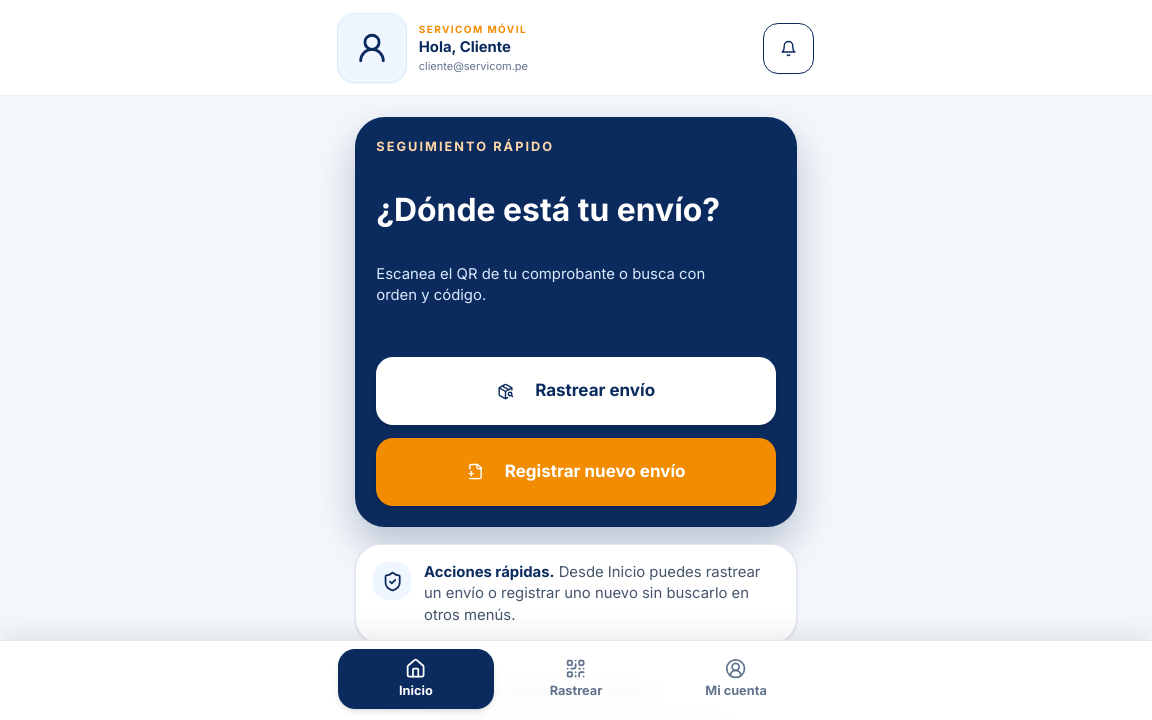
it: MobileAppPage › mantiene al Cliente dentro de las tres funciones permitidas y no expone administración
Click the button "Mi cuenta" at x=736, y=679, box [658,650,814,709]
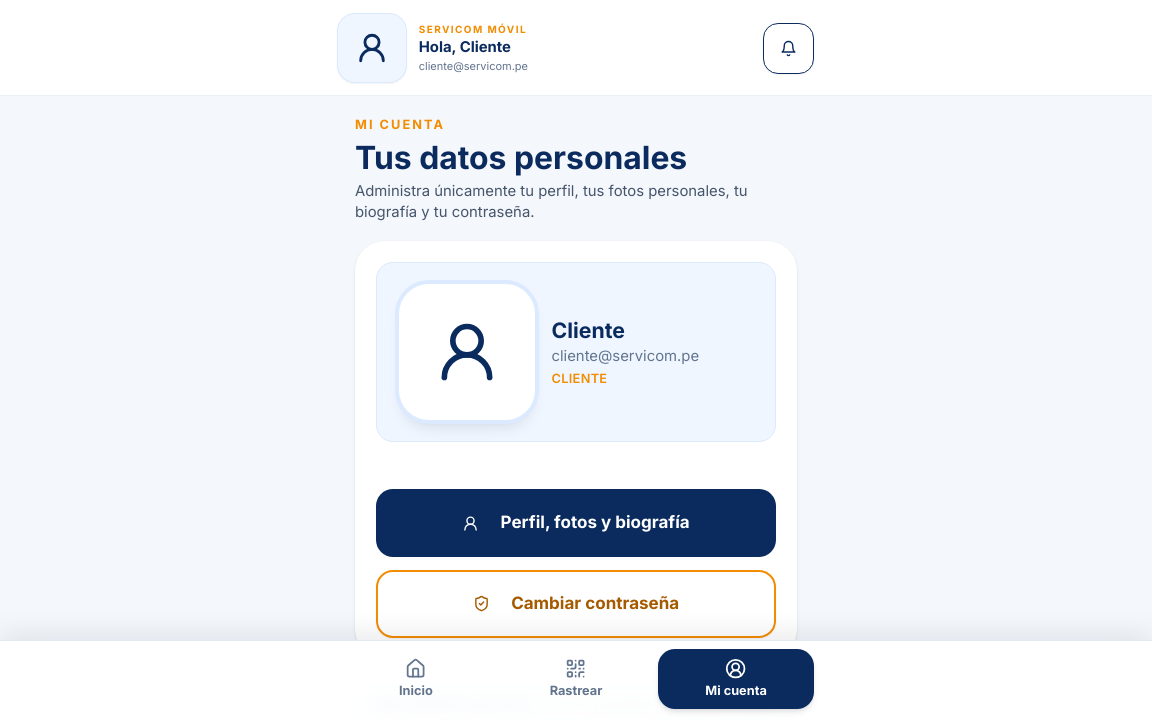
Now the text "Solo gestión personal." is shown, box [373,695,535,713]
